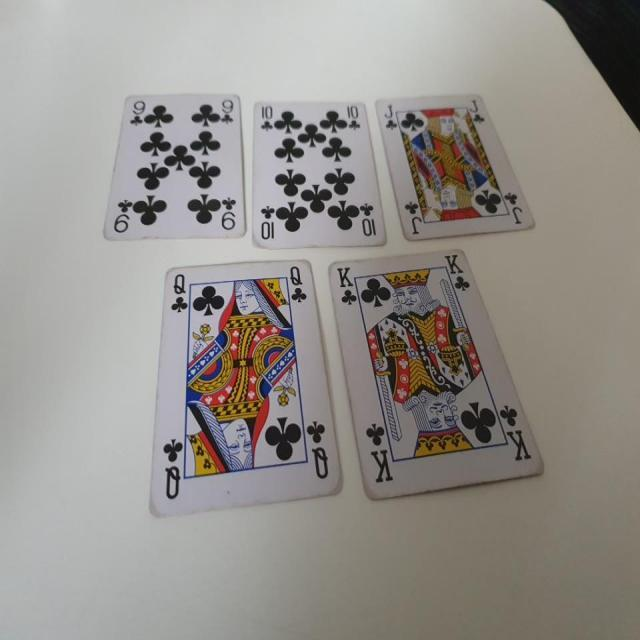10 of clubs: (249, 98, 387, 246)
9 of clubs: (100, 90, 248, 238)
jack of clubs: (372, 92, 536, 242)
king of clubs: (327, 246, 547, 500)
queen of clubs: (148, 258, 348, 514)
